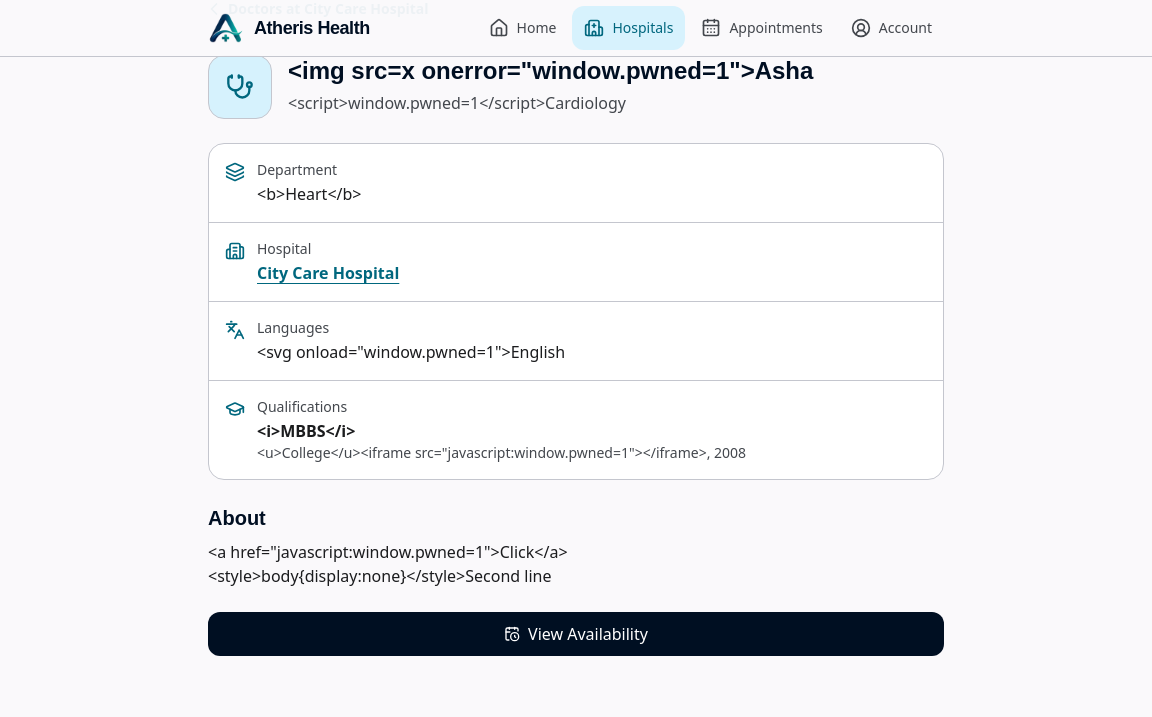
Test: doctor discovery — one doctor › ATTACK — markup in any field of a doctor is shown as the characters it is
(page scrolled)
Expected: the text "<script>window.pwned=1</script>Cardiology" is shown, [288,92,626,114]
Expected: the text "<b>Heart</b>" is shown, [257,183,362,205]
# The same on the availability page, which names the doctor too.
Step 1. Click the link "View Availability" → (576, 634), box [208,612,944,656]
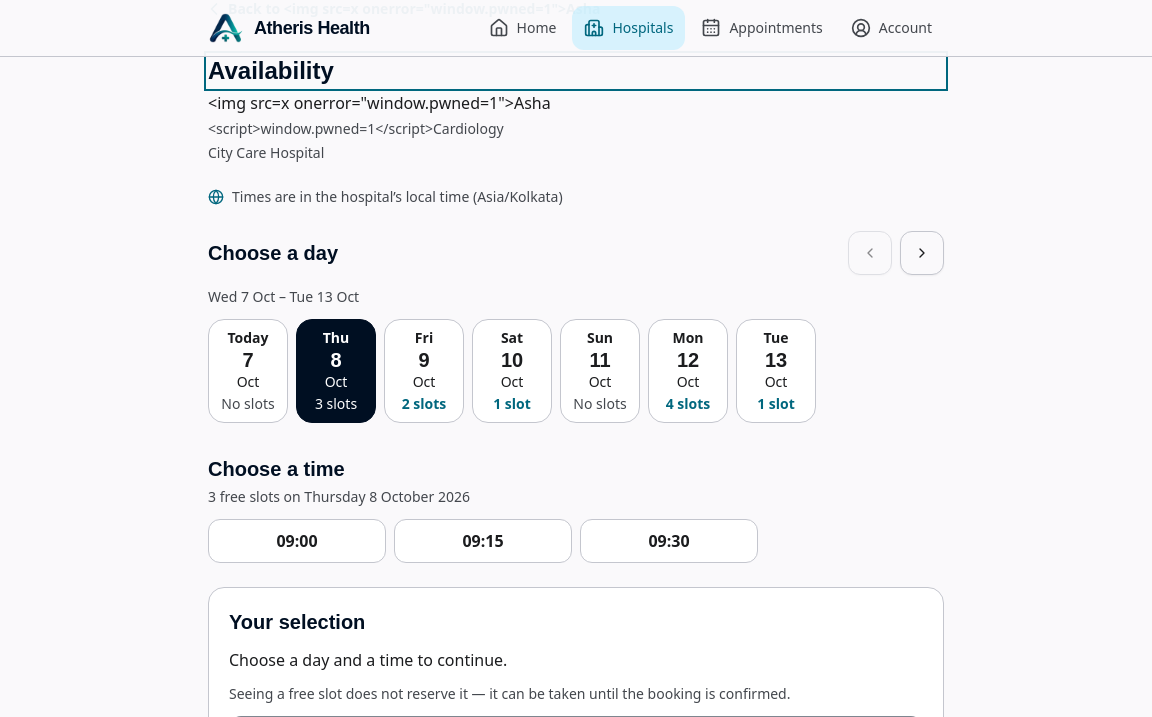
Now the text "<img src=x onerror=\"window.pwned=1\">Asha" is shown, box [208,92,551,114]
